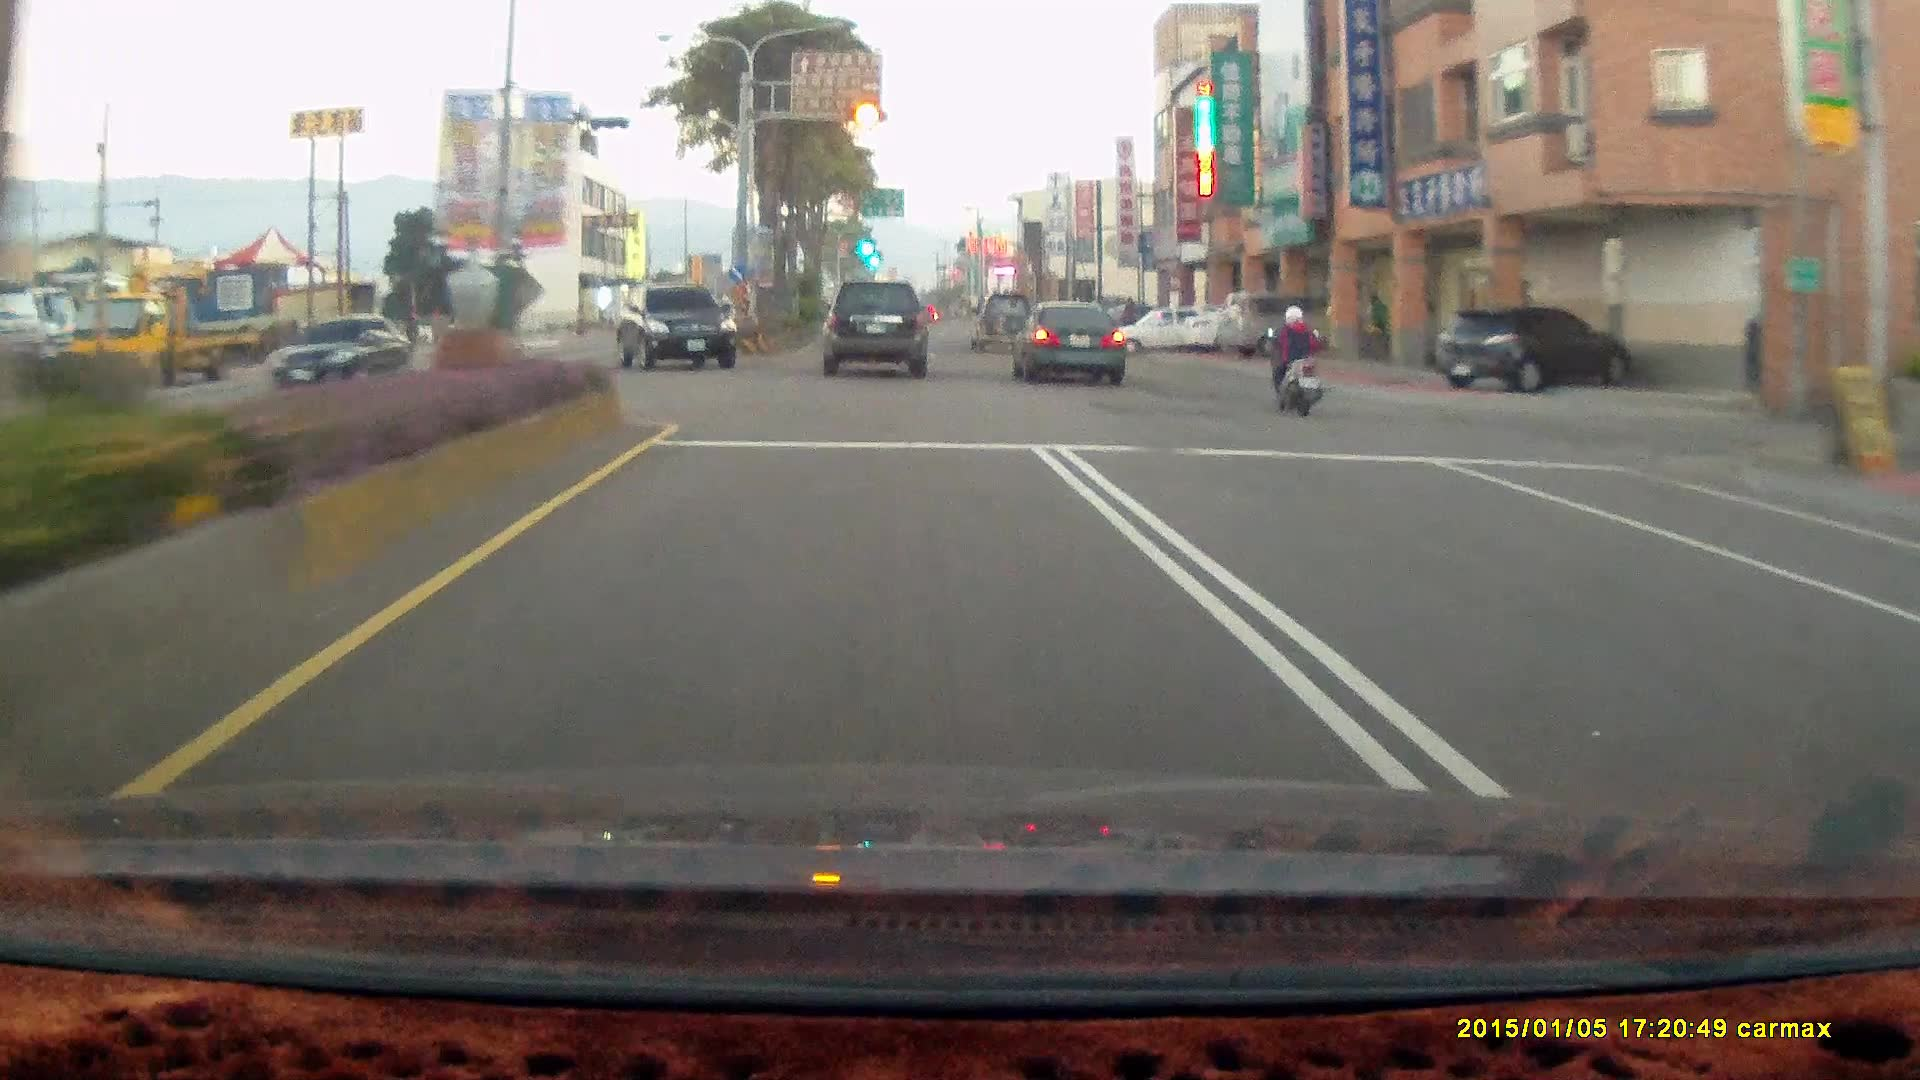pedestrian: (1364, 293, 1389, 360), (401, 304, 421, 357)
rider: (1254, 292, 1337, 425), (1268, 300, 1328, 412)
vehicle: (63, 283, 265, 396), (1434, 301, 1634, 391), (1438, 304, 1643, 392), (255, 311, 417, 396), (265, 310, 409, 394), (823, 281, 931, 379), (821, 279, 929, 377), (612, 283, 735, 367), (620, 283, 742, 366), (1008, 299, 1125, 384), (1010, 302, 1128, 384), (1217, 288, 1352, 358), (1214, 288, 1338, 361), (1119, 301, 1233, 358), (1111, 303, 1229, 354), (968, 289, 1037, 351)
